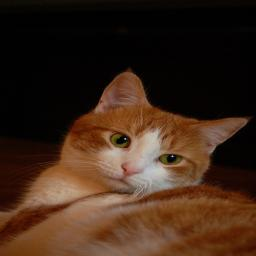catnose: (120, 160, 143, 179)
